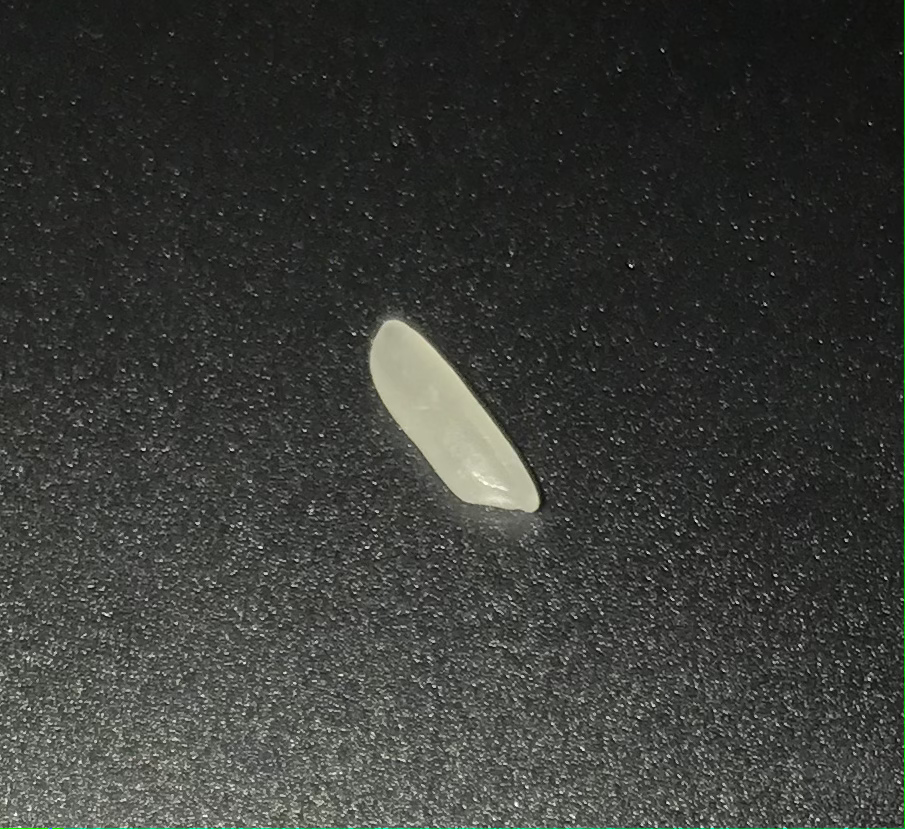Gao Thom My: (354, 302, 567, 533)
